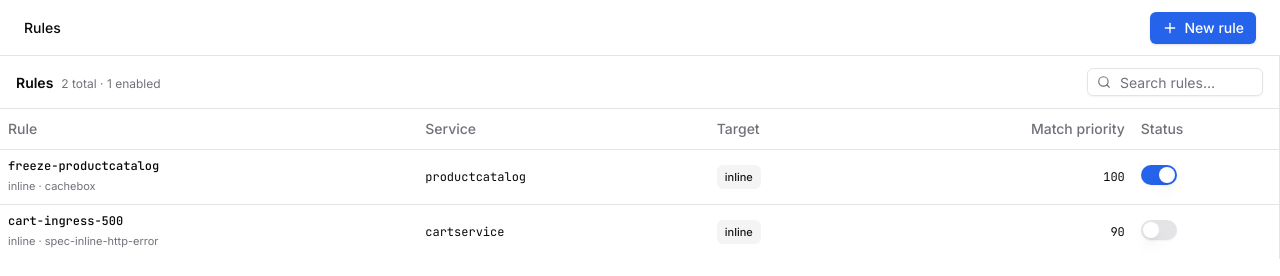
it: RulesPage list › shows empty state when search has no matches
This screenshot has width=1280, height=276.
Expected: the text "freeze-productcatalog" is shown, 8,158 -> 159,174
Type "zzznomatch" into the field with placeholder "Search rules…" at (1175, 82), box 1087,68 -> 1263,96
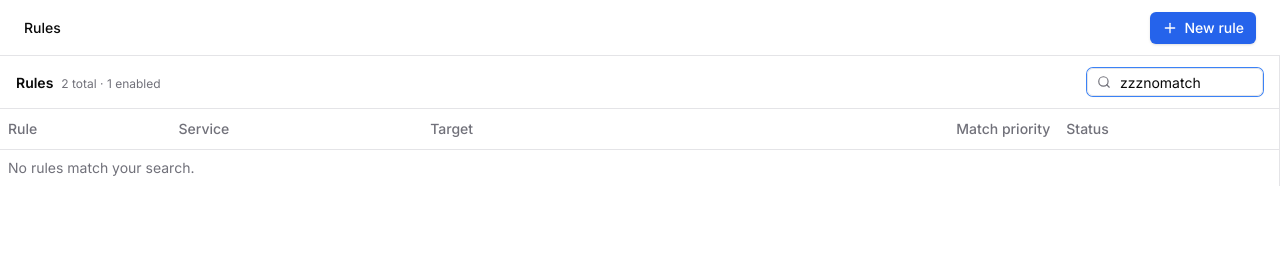
Expected: the text "No rules match your search." is shown, 0,149 -> 1279,186
